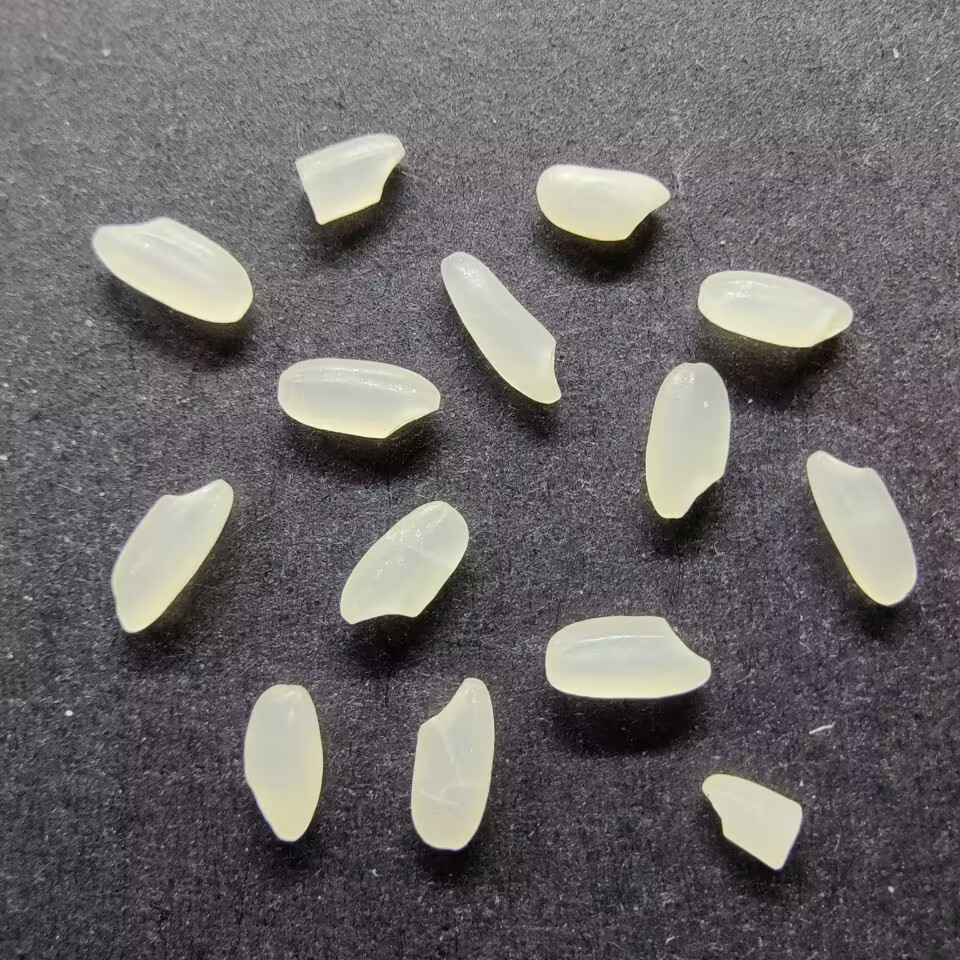broken: (699, 770, 805, 872), (293, 133, 406, 224)
rice: (109, 475, 236, 635), (438, 249, 564, 405), (803, 448, 920, 609), (91, 214, 253, 325), (336, 499, 469, 626), (408, 676, 496, 851), (544, 612, 713, 701), (274, 354, 442, 440), (644, 360, 732, 522), (240, 681, 326, 843), (698, 269, 855, 348), (536, 162, 671, 243)
